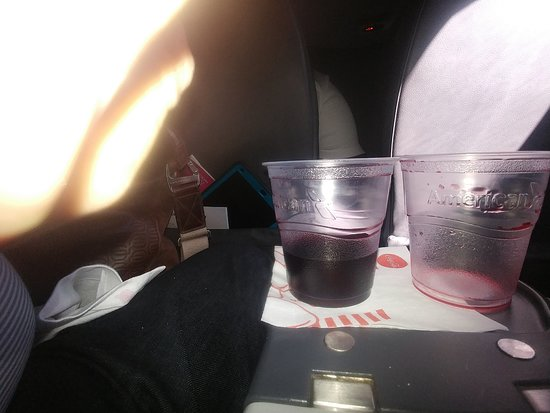plastic_glass: (399, 153, 550, 314), (262, 157, 401, 314)
